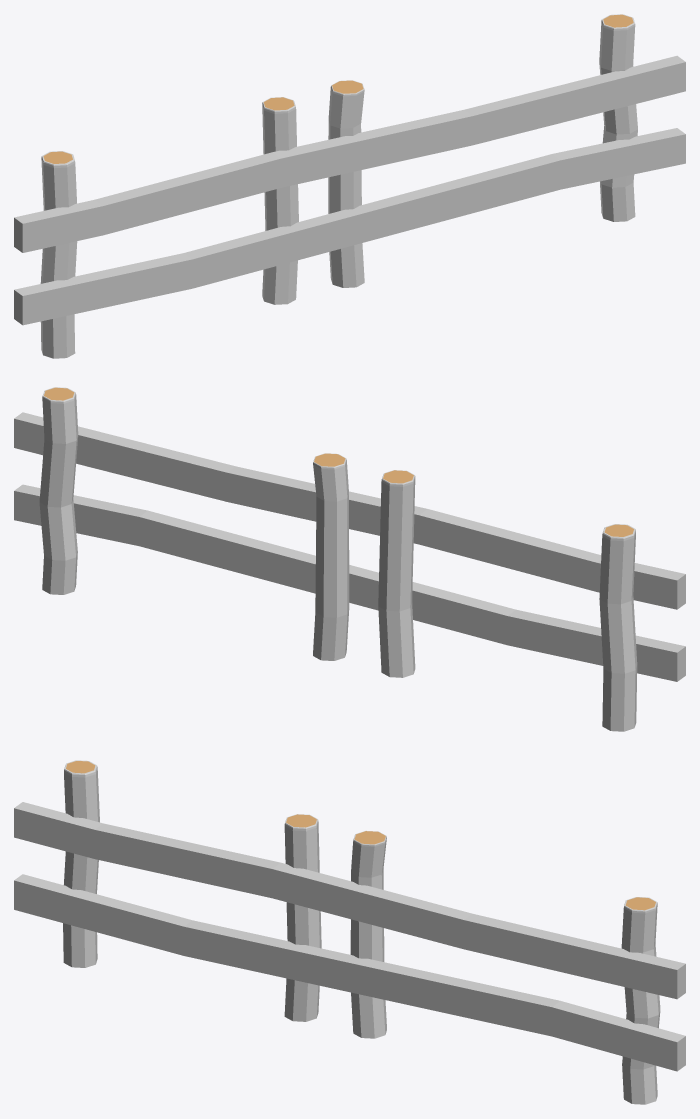
Rendered from Fence.fbx.
The picture shows the model from 3 angles, top to bottom: view 1: azimuth 30°, elevation 25°; view 2: azimuth 150°, elevation 25°; view 3: azimuth 330°, elevation 25°; orthographic projection.
Visible parts, largest first — view 1: Cube.001, Cube, Cylinder, Cylinder.003, Cylinder.002, Cylinder.001; view 2: Cube.001, Cube, Cylinder.002, Cylinder, Cylinder.003, Cylinder.001; view 3: Cube.001, Cube, Cylinder.002, Cylinder, Cylinder.003, Cylinder.001.
Part boxes in pixels (x1=…): Cube.001: x1=14, y1=55, x2=685, y2=252; Cube: x1=14, y1=128, x2=685, y2=325; Cylinder: x1=599, y1=14, x2=637, y2=221; Cylinder.003: x1=40, y1=151, x2=77, y2=358; Cylinder.002: x1=262, y1=97, x2=298, y2=304; Cylinder.001: x1=328, y1=80, x2=364, y2=287; Cube.001: x1=14, y1=412, x2=685, y2=609; Cube: x1=14, y1=484, x2=685, y2=681; Cylinder.002: x1=378, y1=470, x2=415, y2=677; Cylinder: x1=39, y1=387, x2=78, y2=594; Cylinder.003: x1=599, y1=524, x2=637, y2=731; Cylinder.001: x1=313, y1=453, x2=349, y2=660; Cube.001: x1=14, y1=802, x2=685, y2=999; Cube: x1=14, y1=874, x2=685, y2=1071; Cylinder.002: x1=284, y1=814, x2=321, y2=1021; Cylinder: x1=621, y1=897, x2=660, y2=1104; Cylinder.003: x1=63, y1=760, x2=99, y2=967; Cylinder.001: x1=350, y1=830, x2=386, y2=1038.
Size of the model in its own units: 890 by 249 by 56.55.
